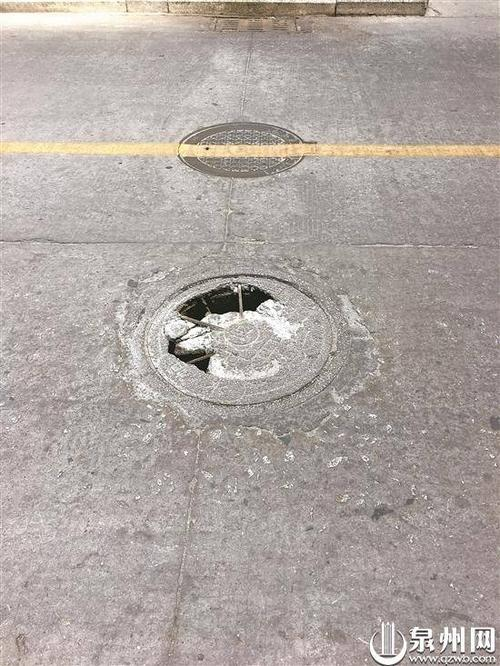broke: (102, 244, 409, 453)
